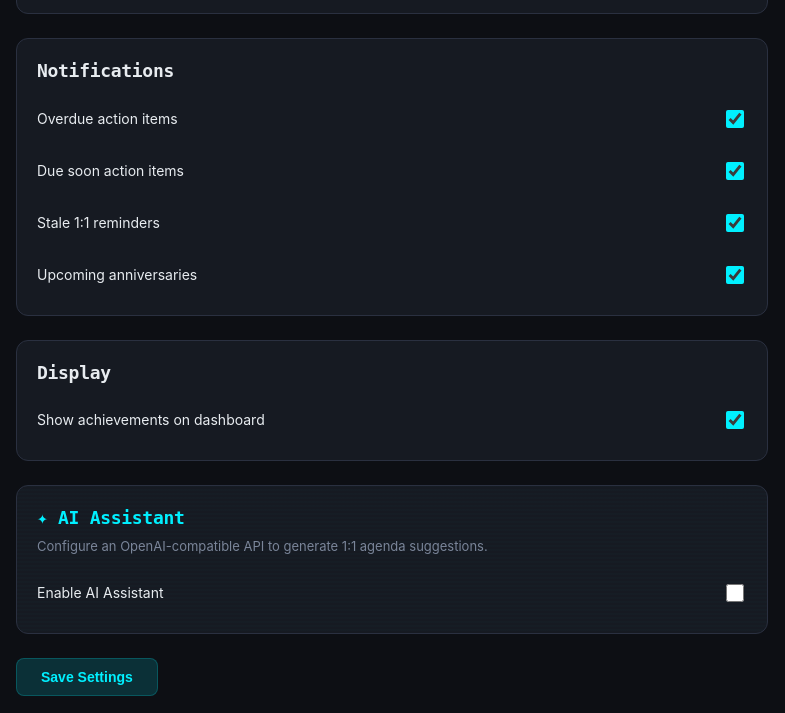
Test: SettingsPage › should show error message on save failure
(page scrolled)
Step 1. Click the button with test id "settings-save-btn" → [87, 677], box [16,658,158,696]
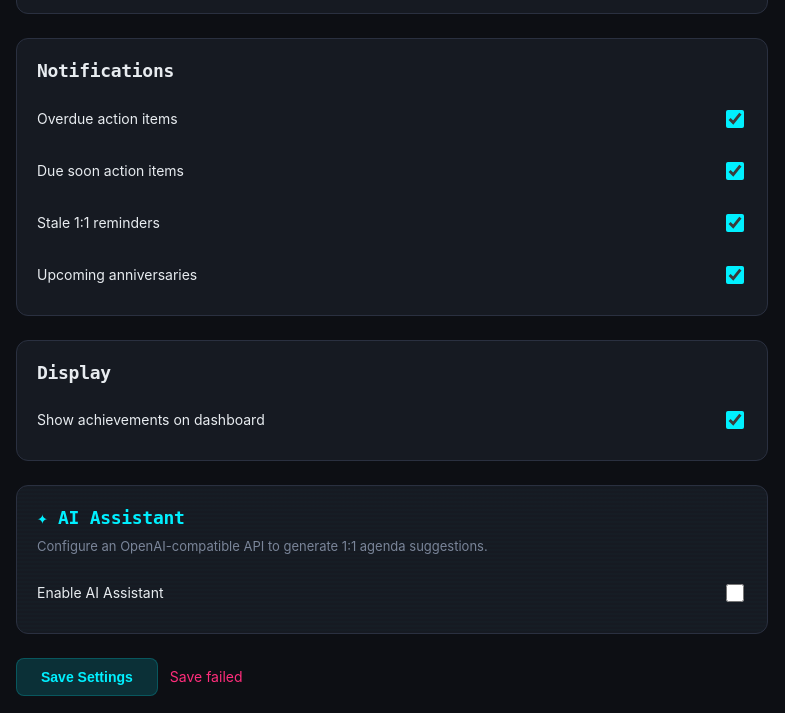
Result: the text with test id "settings-save-error" reads "Save failed" at [170,668,242,685]
